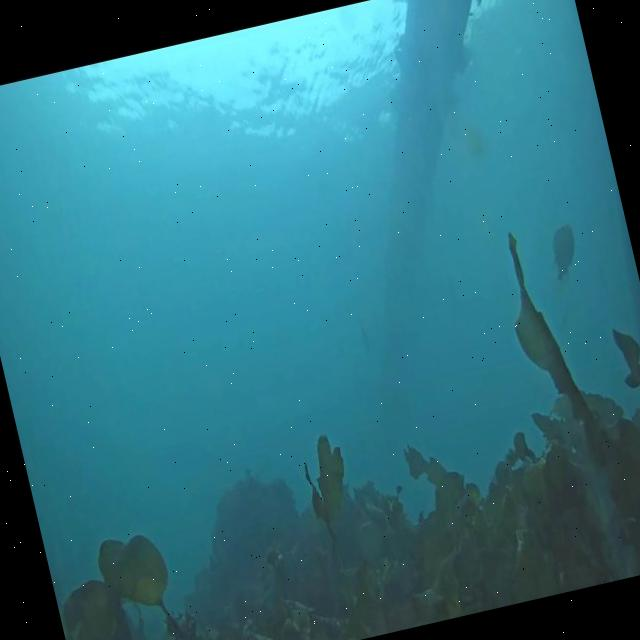fish: (548, 220, 582, 280), (350, 304, 372, 355)
